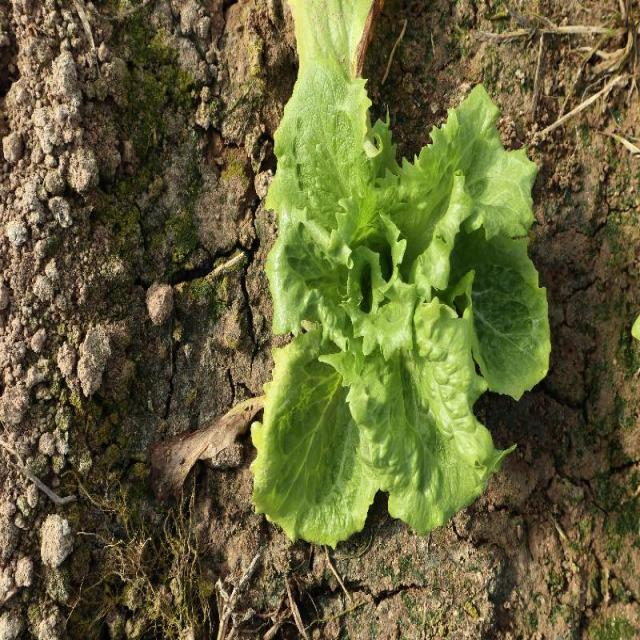crop: (255, 58, 553, 548)
